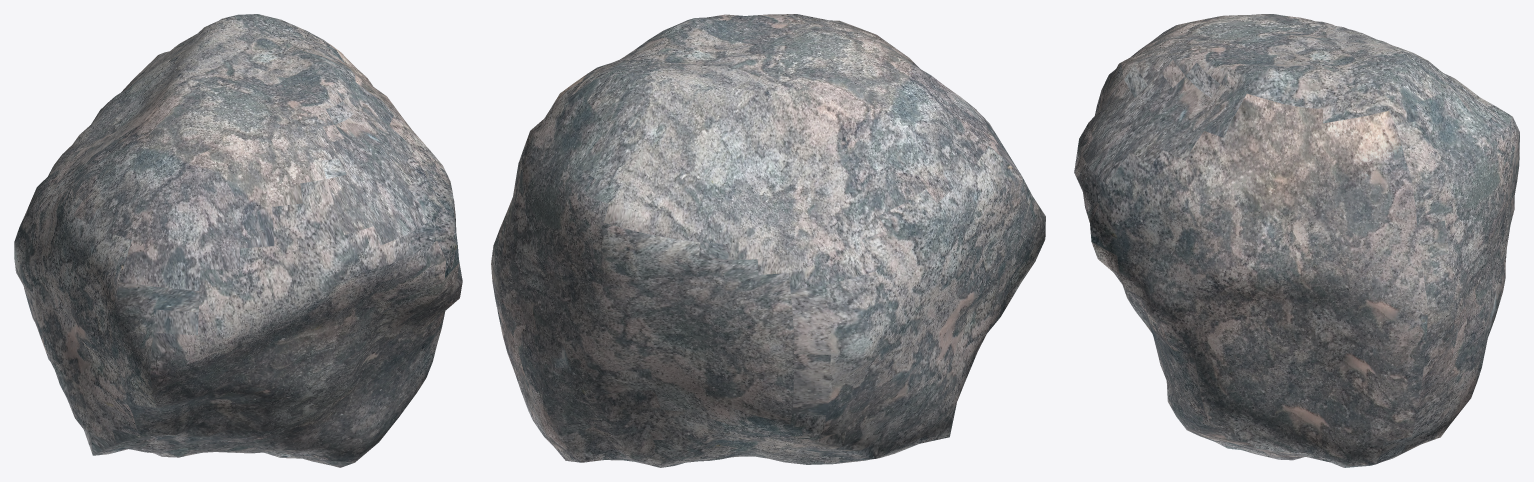
Rendered from MountainsLow3.fbx.
3 renders of one model, left to right at view 1: azimuth 30°, elevation 25°; view 2: azimuth 150°, elevation 25°; view 3: azimuth 270°, elevation 25°, orthographic. The views are drawn at different scales.
Parts seen in each view (by area): view 1: Landscape; view 2: Landscape; view 3: Landscape.
Boxes of the visible parts, <box> form: Landscape: <box>14,14,462,467</box>; Landscape: <box>491,14,1045,467</box>; Landscape: <box>1074,14,1519,467</box>.
Size of the model in its own units: 288 by 290 by 298.
